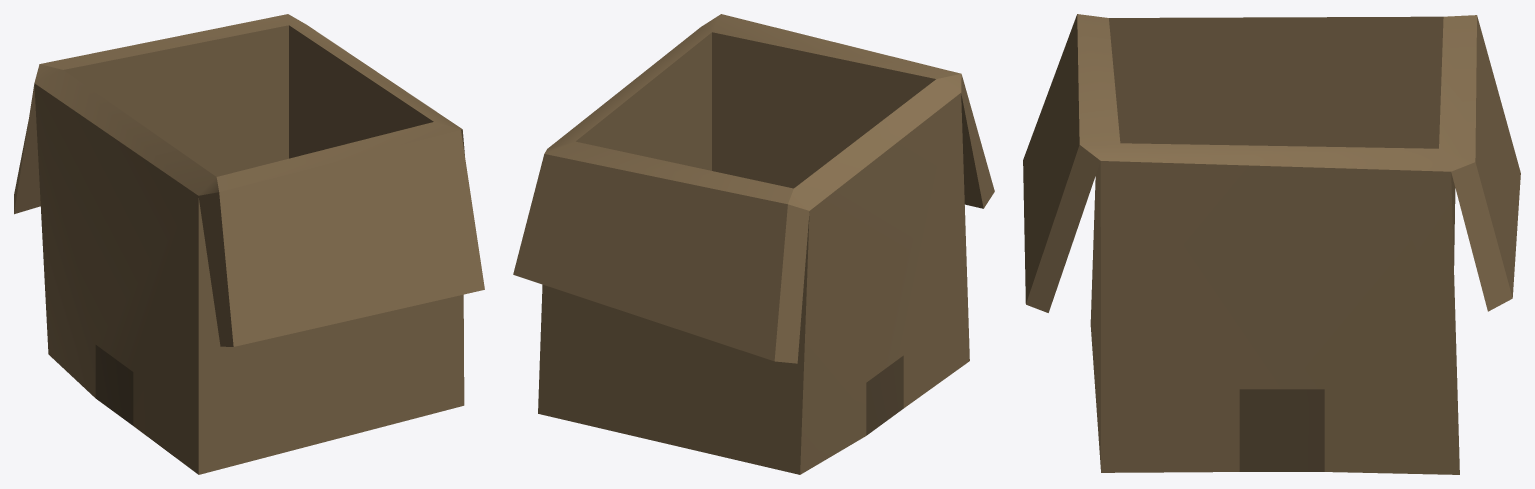
3 renders of one model, left to right at view 1: azimuth 30°, elevation 25°; view 2: azimuth 150°, elevation 25°; view 3: azimuth 270°, elevation 25°, orthographic. The views are drawn at different scales.
Visible parts, largest first — view 1: box_06; view 2: box_06; view 3: box_06.
Boxes of the visible parts, <box> form: box_06: <box>14,14,484,474</box>; box_06: <box>513,14,994,474</box>; box_06: <box>1023,14,1520,474</box>.
Size of the model in its own units: 73.01 by 69.42 by 97.49.
